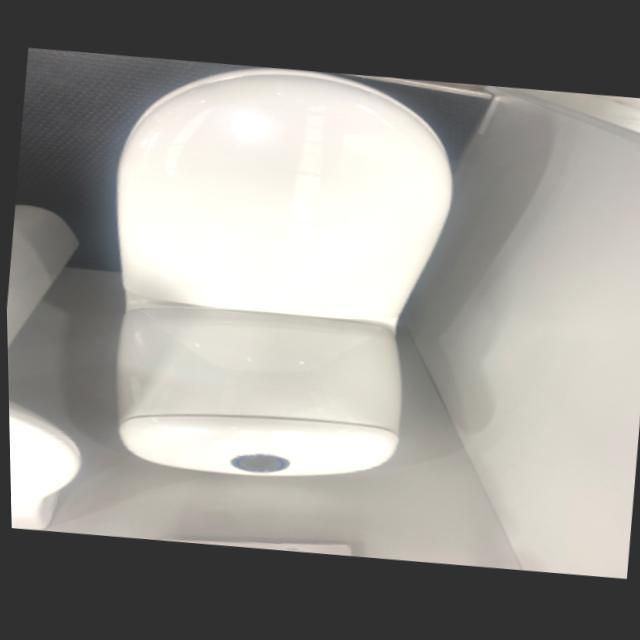toilet: (83, 51, 467, 499)
